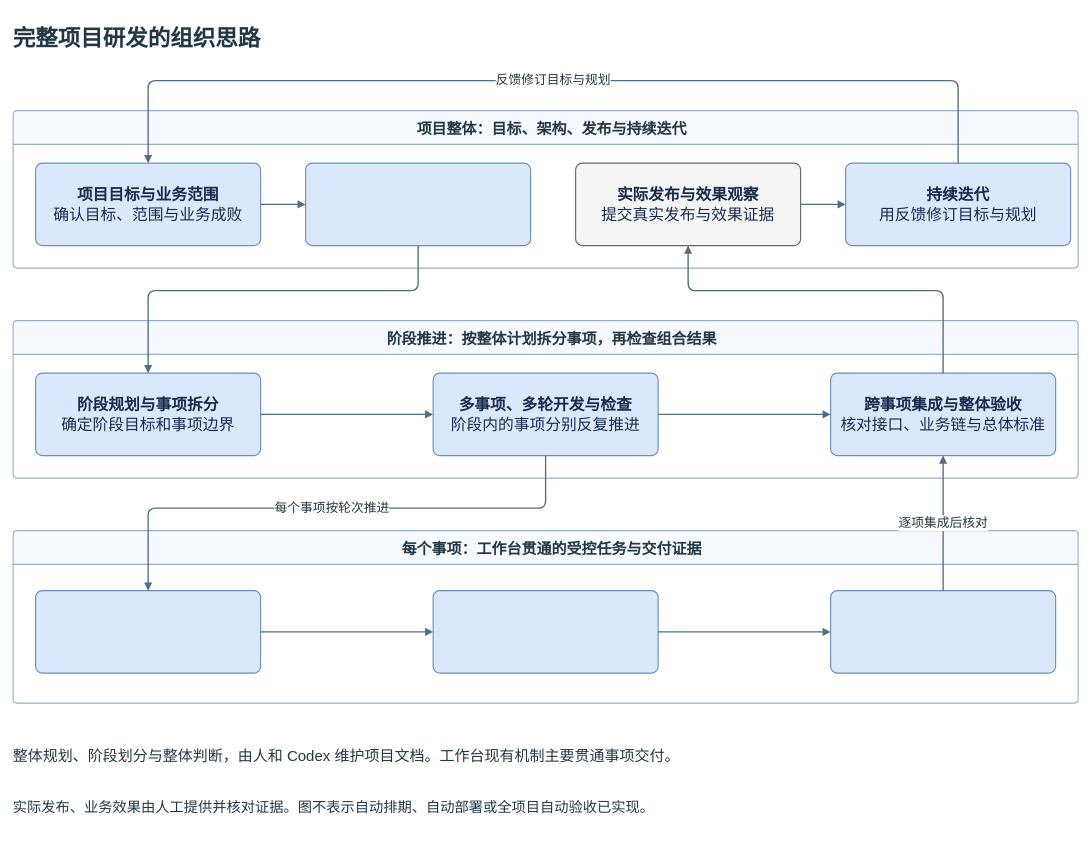
This 1092x843 diagram has some shape labels left out. The shapes that lost their labels are listed below. From the top down, each one's box as (x1, y1, x2, y2) in pixels, then its label:
(305, 162, 531, 246): 整体架构与质量约束 确定边界、接口与质量标准
(35, 590, 261, 673): 方案确认与本轮授权 每轮冻结范围与验收条件
(432, 590, 658, 673): 候选修改与自动检查 检查同一隔离代码副本
(830, 590, 1056, 673): 具名验收与明确集成 保留人审和源码集成记录
